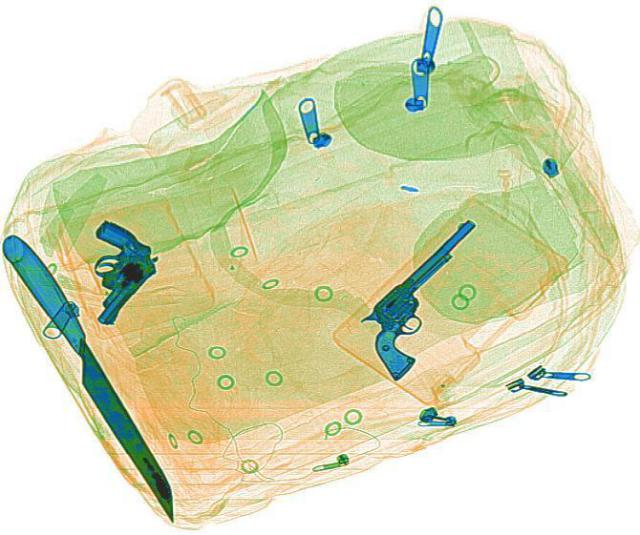Gun: (328, 216, 532, 379), (40, 216, 174, 327)
Knife: (0, 235, 192, 524)
